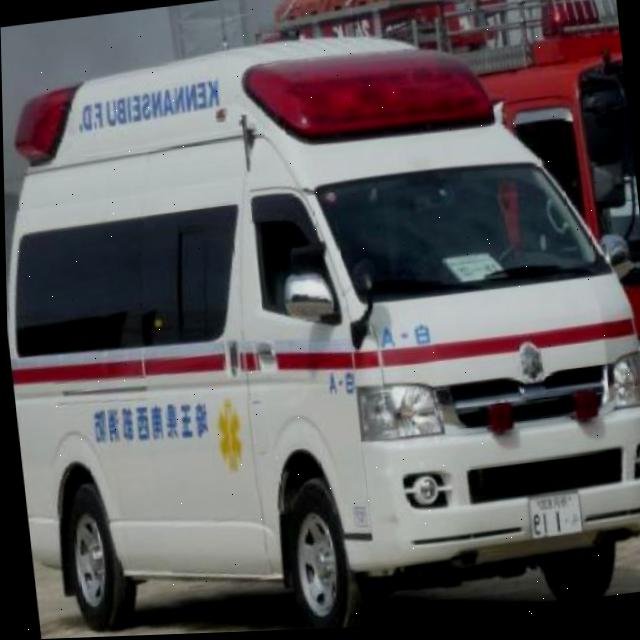emergency: (0, 0, 640, 640), (250, 0, 640, 519)
